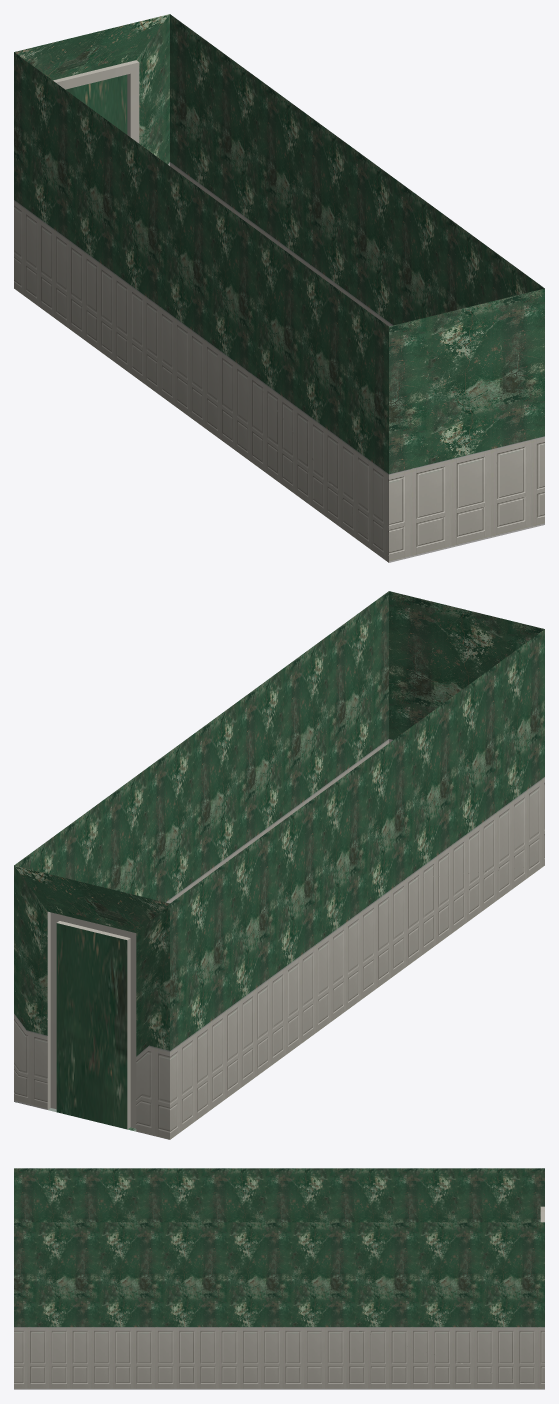
The model's file is hallway.fbx.
3 renders of one model, top to bottom at view 1: azimuth 30°, elevation 25°; view 2: azimuth 150°, elevation 25°; view 3: azimuth 270°, elevation 25°, orthographic. The views are drawn at different scales.
Visible parts, largest first — view 1: Cube; view 2: Cube; view 3: Cube.
Boxes of the visible parts, <box> form: Cube: <box>14,14,544,562</box>; Cube: <box>14,591,544,1139</box>; Cube: <box>14,1168,544,1389</box>.
Size of the model in its own units: 152 by 220 by 633.
